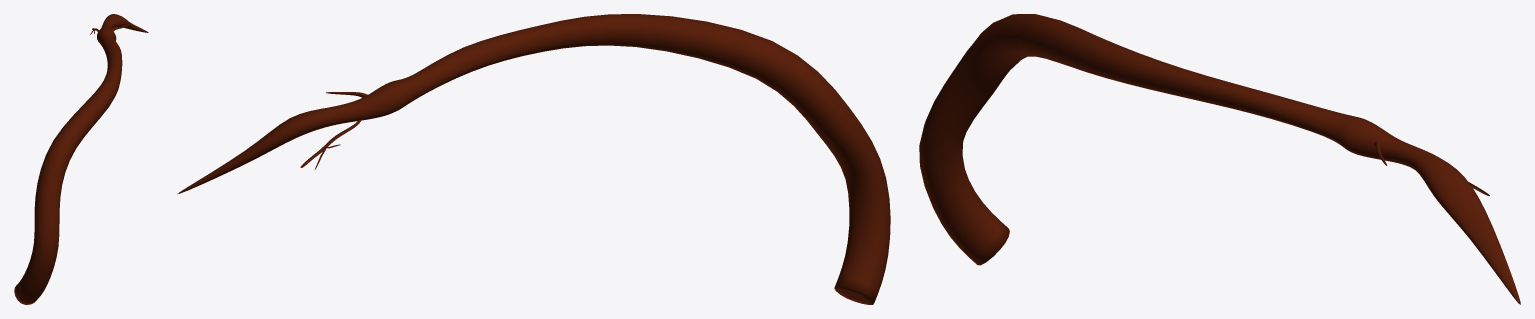
The model's file is branch-of-tree-full.obj.
3 renders of one model, left to right at view 1: azimuth 30°, elevation 25°; view 2: azimuth 150°, elevation 25°; view 3: azimuth 270°, elevation 25°, orthographic. The views are drawn at different scales.
Parts seen in each view (by area): view 1: BigTree.001_Cube.829; view 2: BigTree.001_Cube.829; view 3: BigTree.001_Cube.829.
Boxes of the visible parts, x1,y1,x2,y2 form: BigTree.001_Cube.829: (14,14,148,304); BigTree.001_Cube.829: (177,14,890,304); BigTree.001_Cube.829: (919,14,1520,304).
Size of the model in its own units: 7.09 by 4.2 by 7.1.
